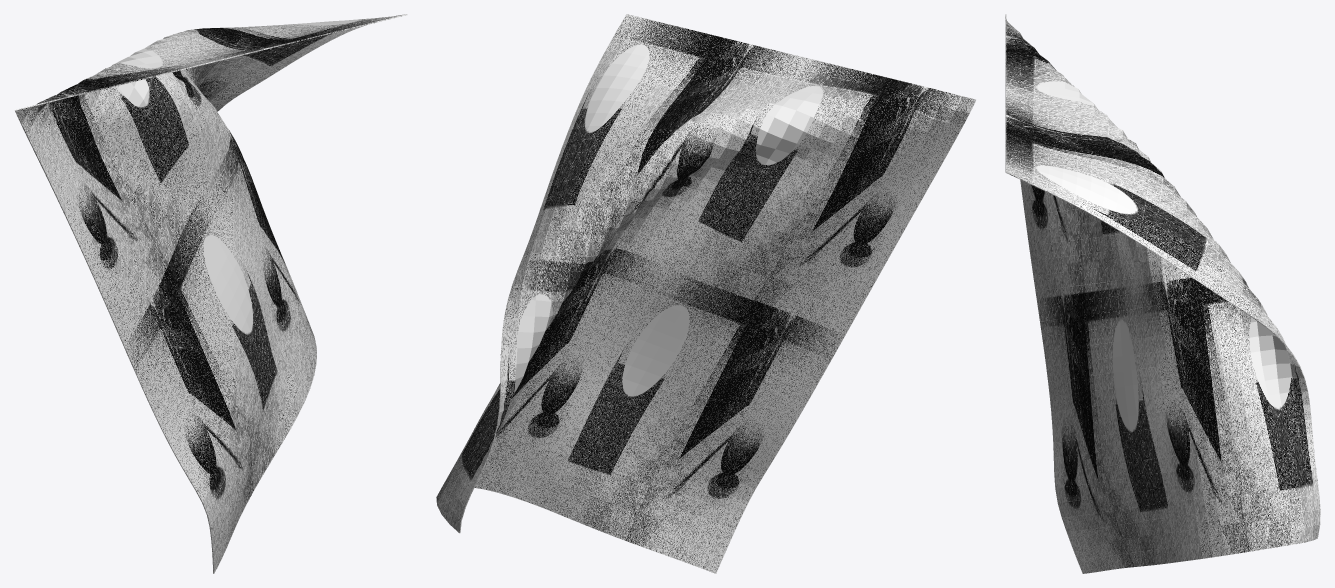
File: SM_AF_ClothBanner.glb
The picture shows the model from 3 angles, left to right: view 1: azimuth 30°, elevation 25°; view 2: azimuth 150°, elevation 25°; view 3: azimuth 270°, elevation 25°; orthographic projection. The views are drawn at different scales.
Parts seen in each view (by area): view 1: SM_AF_ClothBanner_Baked; view 2: SM_AF_ClothBanner_Baked; view 3: SM_AF_ClothBanner_Baked.
Part boxes in pixels (x1=…): SM_AF_ClothBanner_Baked: x1=14, y1=14, x2=407, y2=573; SM_AF_ClothBanner_Baked: x1=436, y1=14, x2=975, y2=573; SM_AF_ClothBanner_Baked: x1=1005, y1=14, x2=1320, y2=573.
Size of the model in its own units: 5.43 by 6.52 by 4.04.
Materials: 1 (1 with a texture image).
